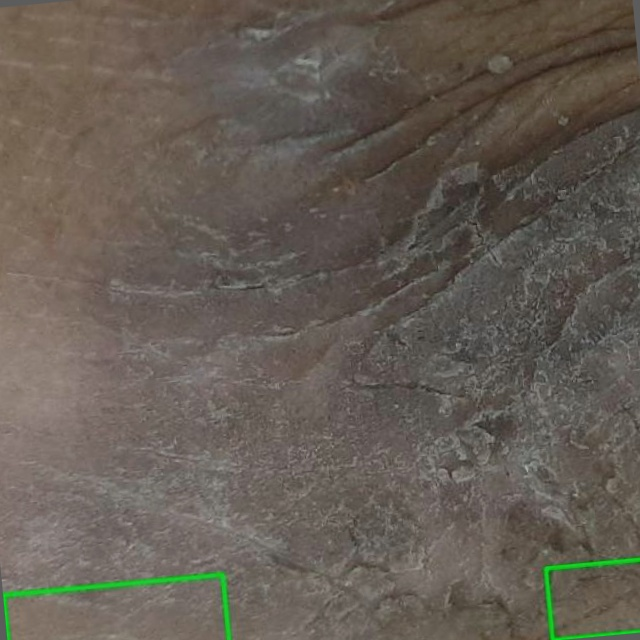Eczema: (545, 559, 639, 639)
